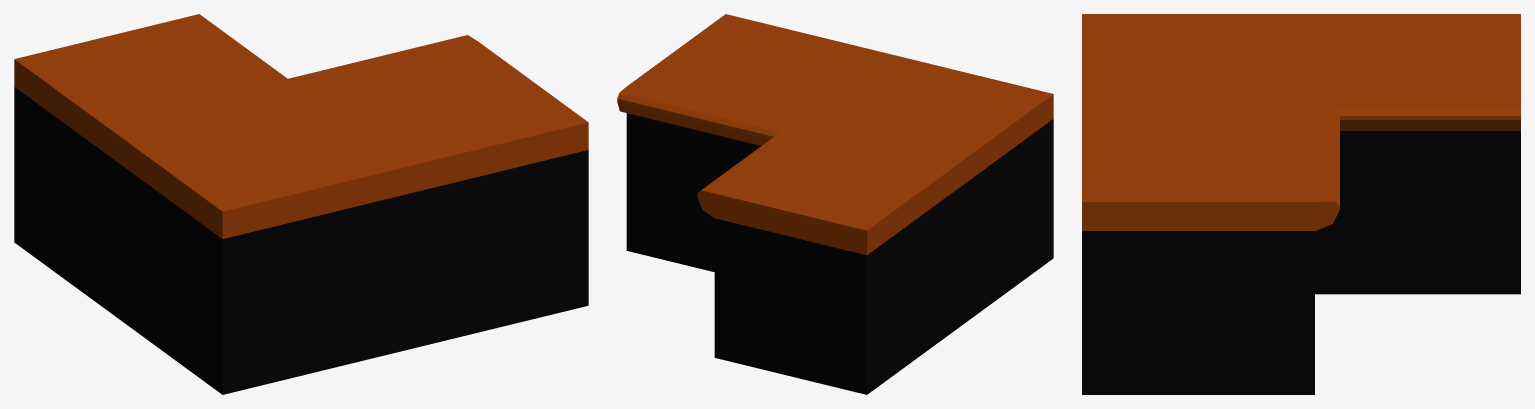
Rendered from workplan_001.glb.
The picture shows the model from 3 angles, left to right: view 1: azimuth 30°, elevation 25°; view 2: azimuth 150°, elevation 25°; view 3: azimuth 270°, elevation 25°; orthographic projection. The views are drawn at different scales.
Parts seen in each view (by area): view 1: Cube.009; view 2: Cube.009; view 3: Cube.009.
Part boxes in pixels (x1,y1,x2,y2): Cube.009: (14, 14, 588, 394); Cube.009: (617, 14, 1053, 394); Cube.009: (1082, 14, 1520, 394).
Bounding box in the file's own units: 6.73 × 3.22 × 6.64.
